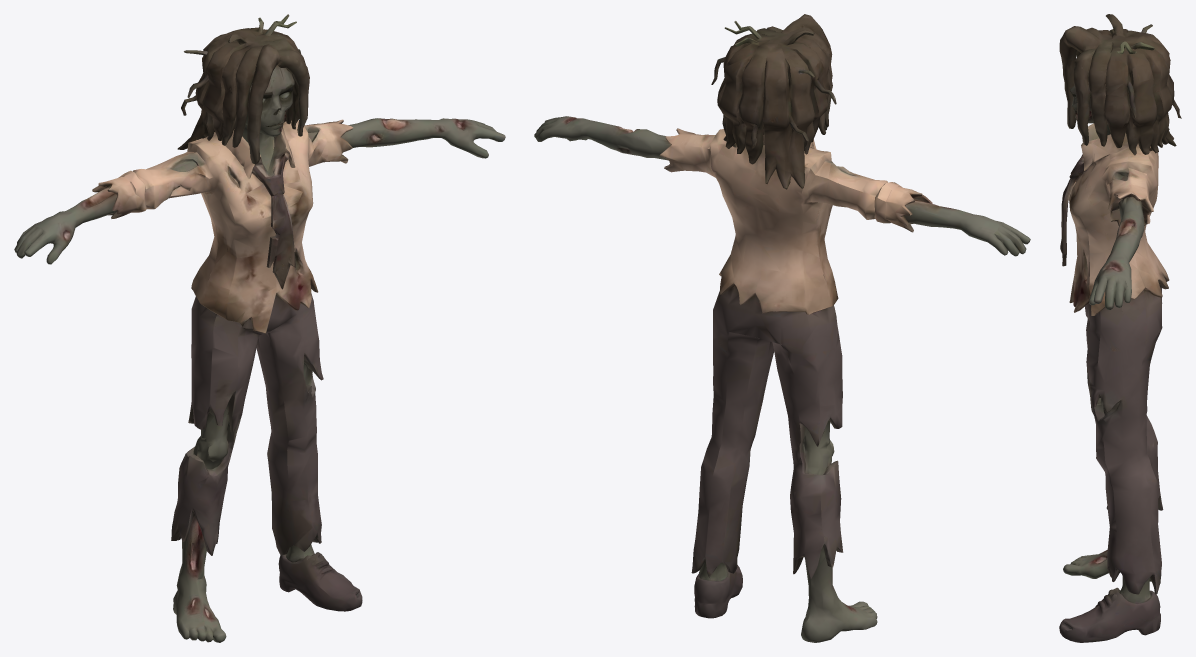
File: zombie_runner_idle.glb
3 views of the same model, side by side, from view 1: azimuth 30°, elevation 25°; view 2: azimuth 150°, elevation 25°; view 3: azimuth 270°, elevation 25° (orthographic). The views are drawn at different scales.
Parts seen in each view (by area): view 1: tripo_node_cd920640-756b-4c9b-a850-15e7e0bf3940; view 2: tripo_node_cd920640-756b-4c9b-a850-15e7e0bf3940; view 3: tripo_node_cd920640-756b-4c9b-a850-15e7e0bf3940.
Part boxes in pixels (<box>): tripo_node_cd920640-756b-4c9b-a850-15e7e0bf3940: <box>14,14,505,642</box>; tripo_node_cd920640-756b-4c9b-a850-15e7e0bf3940: <box>534,14,1030,642</box>; tripo_node_cd920640-756b-4c9b-a850-15e7e0bf3940: <box>1059,14,1181,642</box>.
Bounding box in the file's own units: 1.45 × 1.68 × 0.3228.
Materials: 1 (1 with a texture image).
